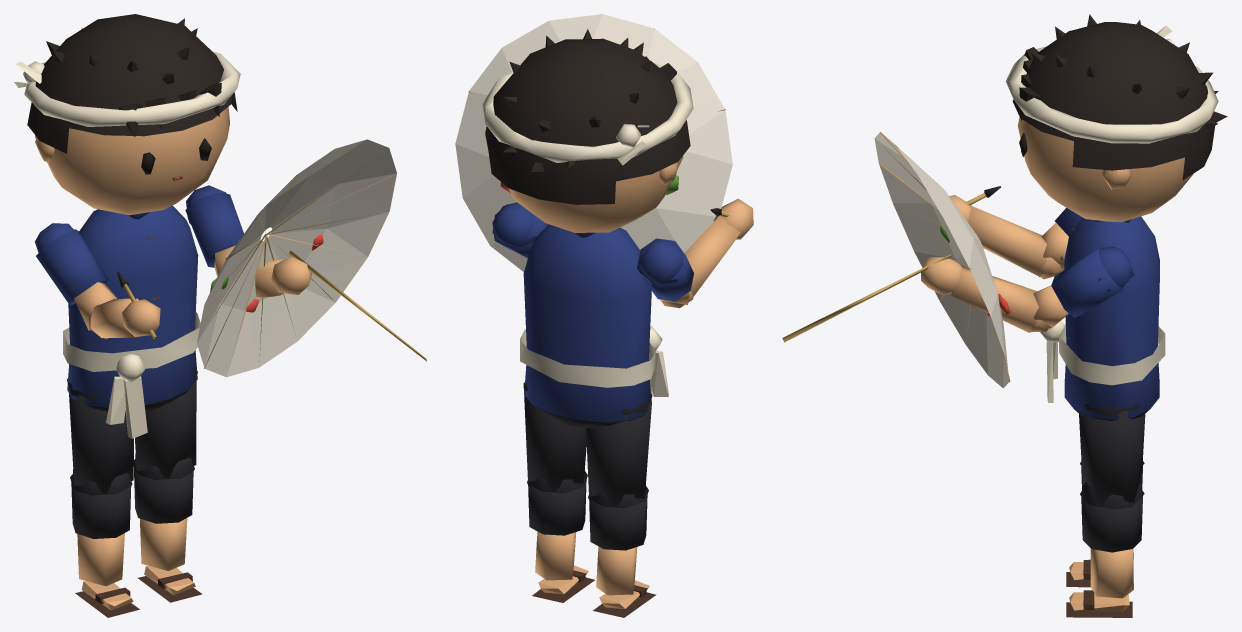
File: north_umbrella_painter.glb
3 views of the same model, side by side, from view 1: azimuth 30°, elevation 25°; view 2: azimuth 150°, elevation 25°; view 3: azimuth 270°, elevation 25° (orthographic). The views are drawn at different scales.
Parts seen in each view (by area): view 1: head, prop_paper_umbrella, body, shin_R, shin_L, leg_R, arm_R, leg_L, arm_L, forearm_R, forearm_L; view 2: head, body, prop_paper_umbrella, shin_L, shin_R, leg_R, leg_L, forearm_R, arm_R, arm_L; view 3: head, body, prop_paper_umbrella, shin_L, leg_L, arm_L, forearm_L, forearm_R, arm_R, shin_R.
Boxes of the visible parts, x1=… form: head: x1=14, y1=14, x2=240, y2=215; prop_paper_umbrella: x1=197, y1=139, x2=426, y2=377; body: x1=63, y1=205, x2=200, y2=438; shin_R: x1=71, y1=469, x2=139, y2=617; shin_L: x1=134, y1=454, x2=202, y2=602; leg_R: x1=67, y1=378, x2=133, y2=495; arm_R: x1=35, y1=223, x2=117, y2=339; leg_L: x1=133, y1=368, x2=197, y2=479; arm_L: x1=185, y1=185, x2=243, y2=276; forearm_R: x1=88, y1=298, x2=160, y2=338; forearm_L: x1=255, y1=257, x2=311, y2=297; head: x1=482, y1=29, x2=693, y2=232; body: x1=520, y1=224, x2=668, y2=428; prop_paper_umbrella: x1=455, y1=14, x2=732, y2=271; shin_L: x1=528, y1=470, x2=594, y2=602; shin_R: x1=589, y1=485, x2=656, y2=617; leg_R: x1=586, y1=393, x2=652, y2=508; leg_L: x1=523, y1=382, x2=587, y2=493; forearm_R: x1=661, y1=198, x2=753, y2=307; arm_R: x1=637, y1=238, x2=693, y2=308; arm_L: x1=492, y1=202, x2=548, y2=258; head: x1=1005, y1=14, x2=1227, y2=222; body: x1=1040, y1=216, x2=1165, y2=420; prop_paper_umbrella: x1=782, y1=132, x2=1010, y2=388; shin_L: x1=1066, y1=482, x2=1142, y2=617; leg_L: x1=1079, y1=403, x2=1145, y2=509; arm_L: x1=1033, y1=246, x2=1133, y2=331; forearm_L: x1=921, y1=257, x2=1051, y2=332; forearm_R: x1=949, y1=195, x2=1061, y2=277; arm_R: x1=1040, y1=208, x2=1082, y2=279; shin_R: x1=1066, y1=466, x2=1142, y2=587.
Bounding box in the file's own units: 0.798 × 1.47 × 1.05.
